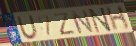7: (38, 14, 52, 37)
H: (105, 5, 131, 33)
N: (69, 10, 96, 36), (88, 6, 113, 34)
U: (16, 14, 40, 41)
Z: (52, 12, 77, 36)
